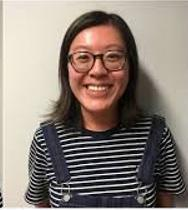Drunk: (69, 32, 127, 108)
